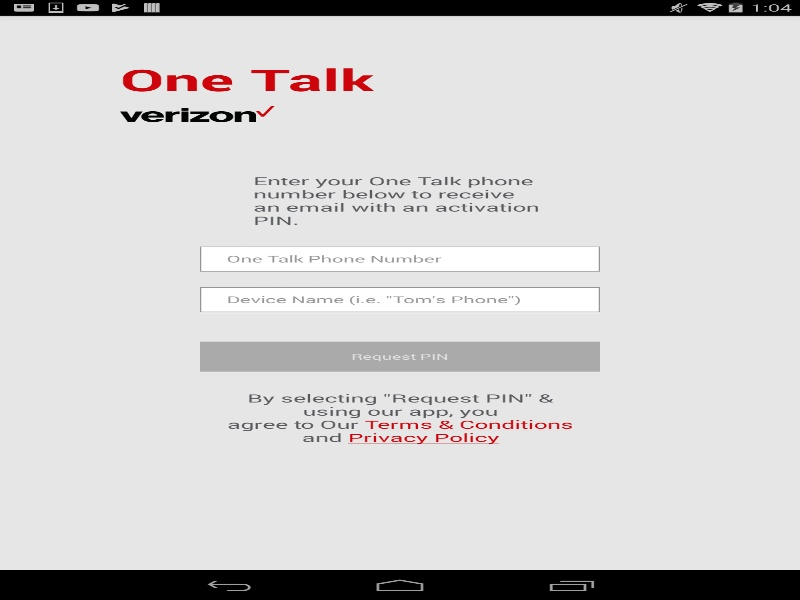Button: (200, 341, 600, 371)
Input: (200, 246, 600, 271), (200, 287, 600, 312)
